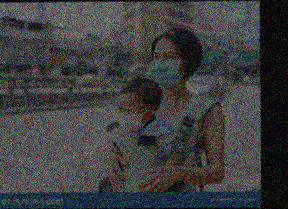with_mask: (148, 49, 184, 88), (113, 101, 146, 131)
